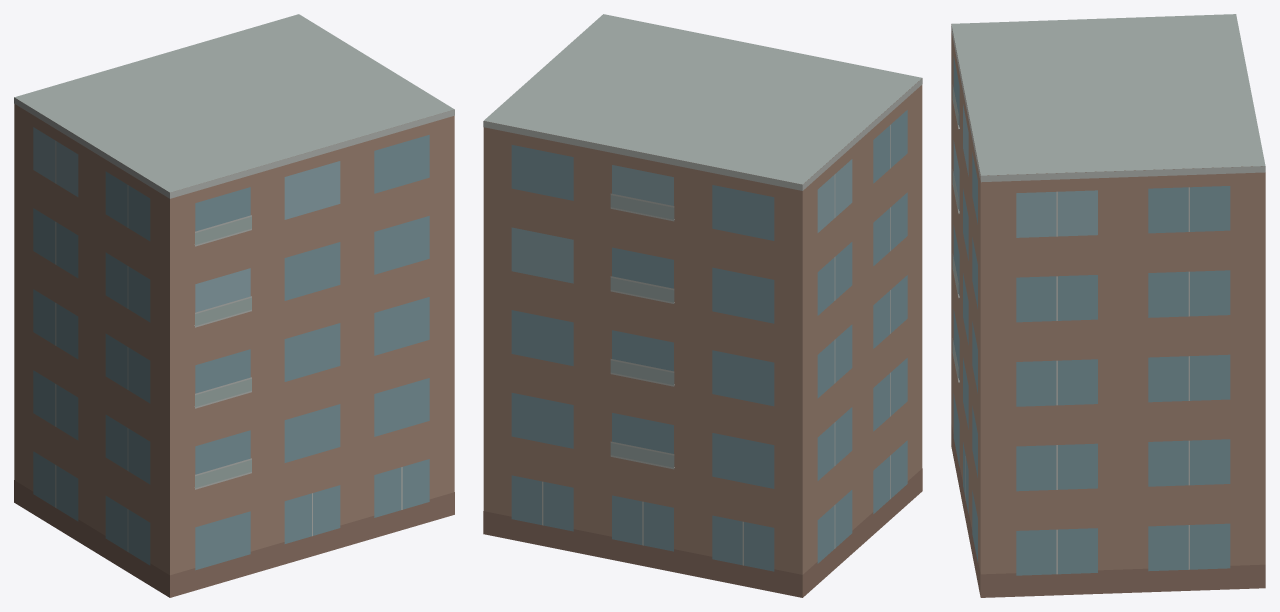
File: survey-upis-32967071.glb
The picture shows the model from 3 angles, left to right: view 1: azimuth 30°, elevation 25°; view 2: azimuth 150°, elevation 25°; view 3: azimuth 270°, elevation 25°; orthographic projection. The views are drawn at different scales.
Visible parts, largest first — view 1: survey-upis-32967071.tmp; view 2: survey-upis-32967071.tmp; view 3: survey-upis-32967071.tmp.
Boxes of the visible parts, box(x1,y1,x2,y2) form: survey-upis-32967071.tmp: box(14, 14, 454, 597); survey-upis-32967071.tmp: box(483, 14, 922, 597); survey-upis-32967071.tmp: box(951, 14, 1265, 597).
Bounding box in the file's own units: 12.98 × 15.8 × 10.67.
